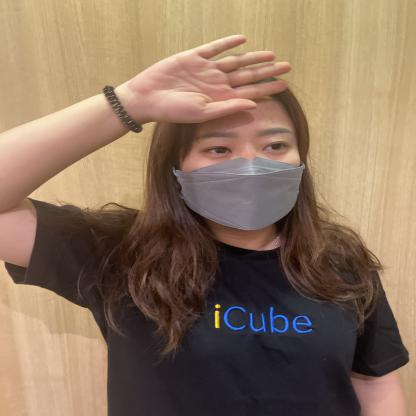Sick: (48, 15, 318, 146)
